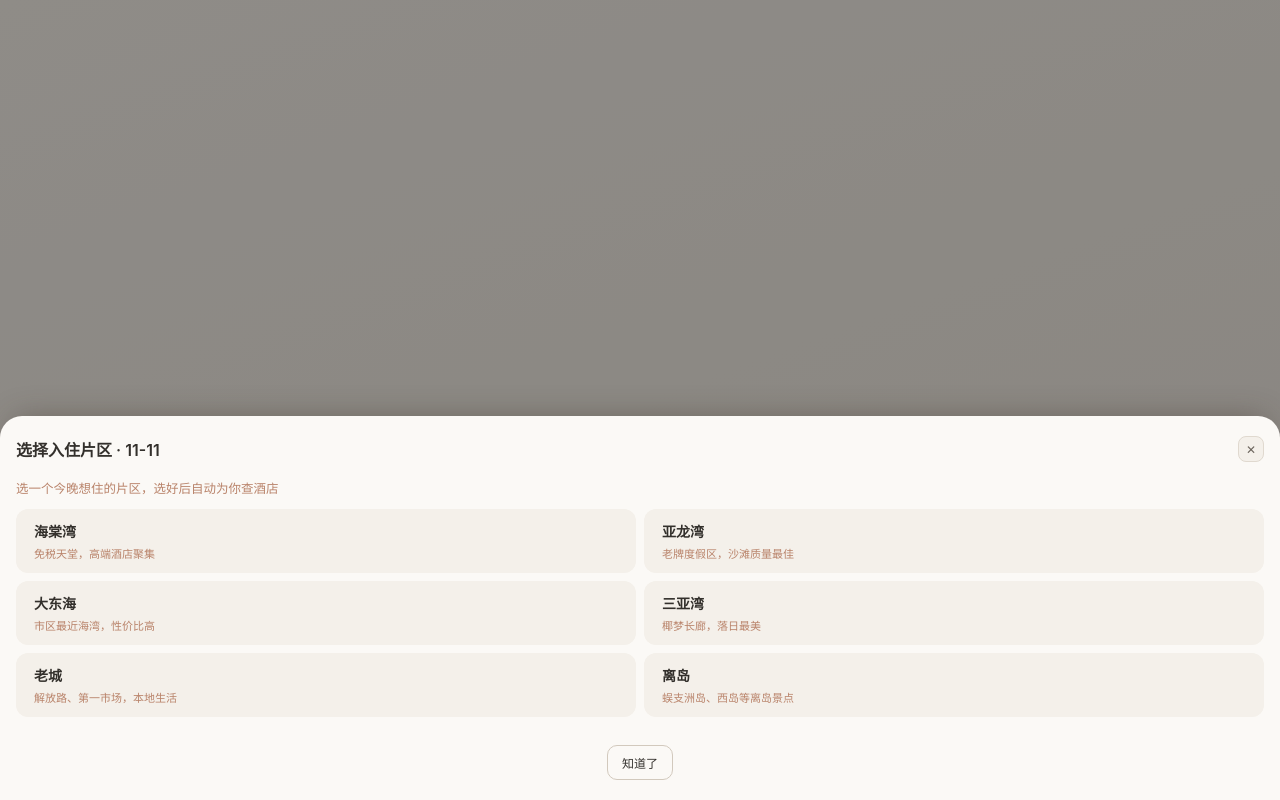
Test case: Task #354 HotelPicker 片区选择态 › 点选湾区触发 updateLodgingArea 写回并进入搜索态
Click the text "海棠湾" at (55, 532), box [34,523,76,540]
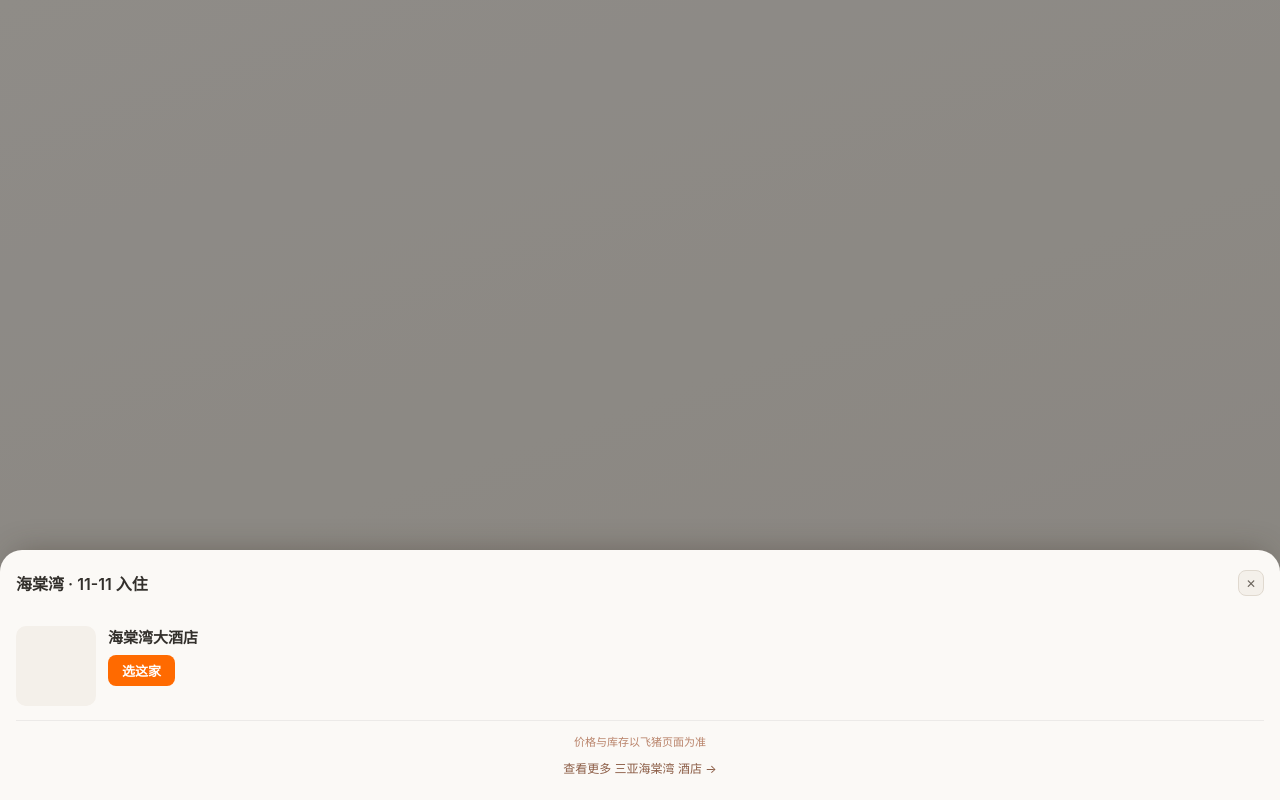
Check: the text "海棠湾大酒店" is shown, box [108,628,198,647]
